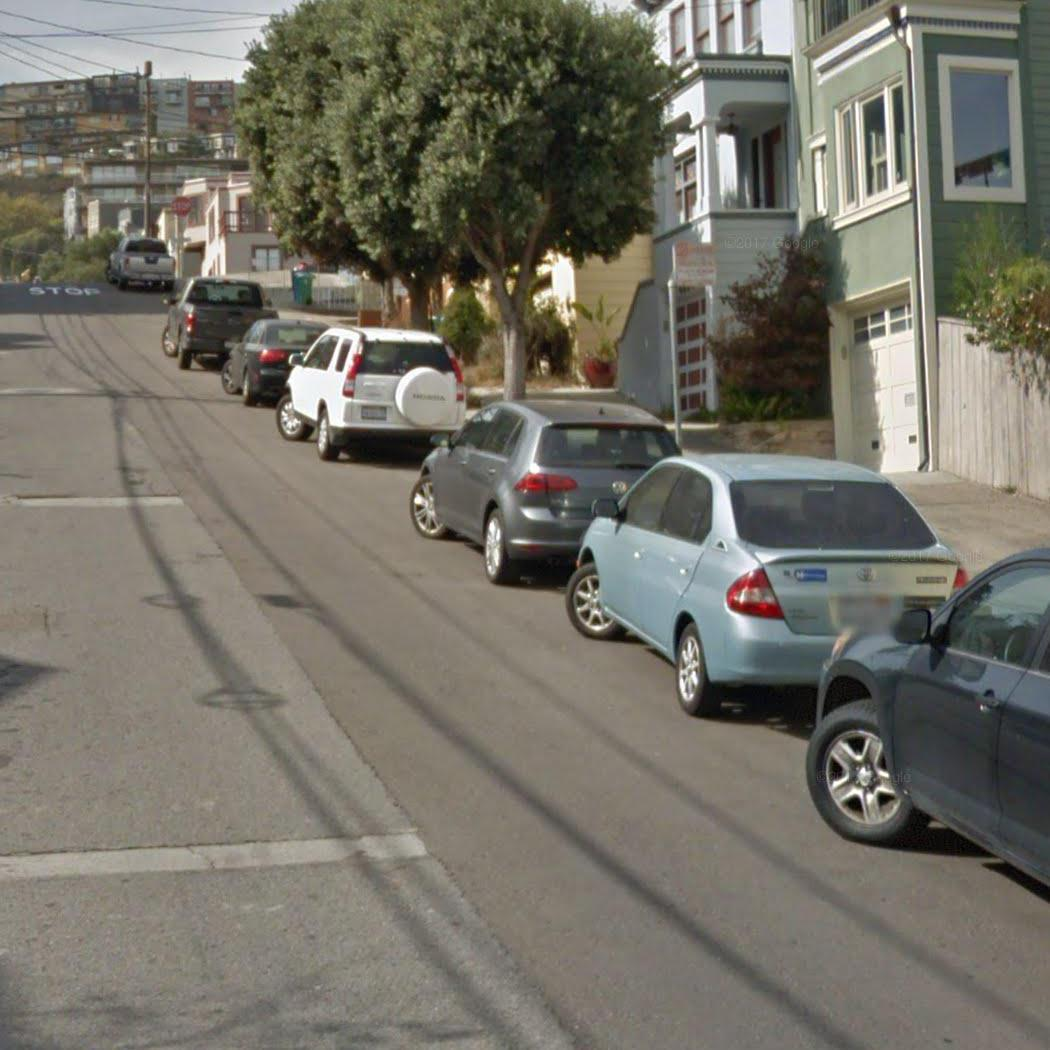No Parking: (670, 240, 718, 289)
